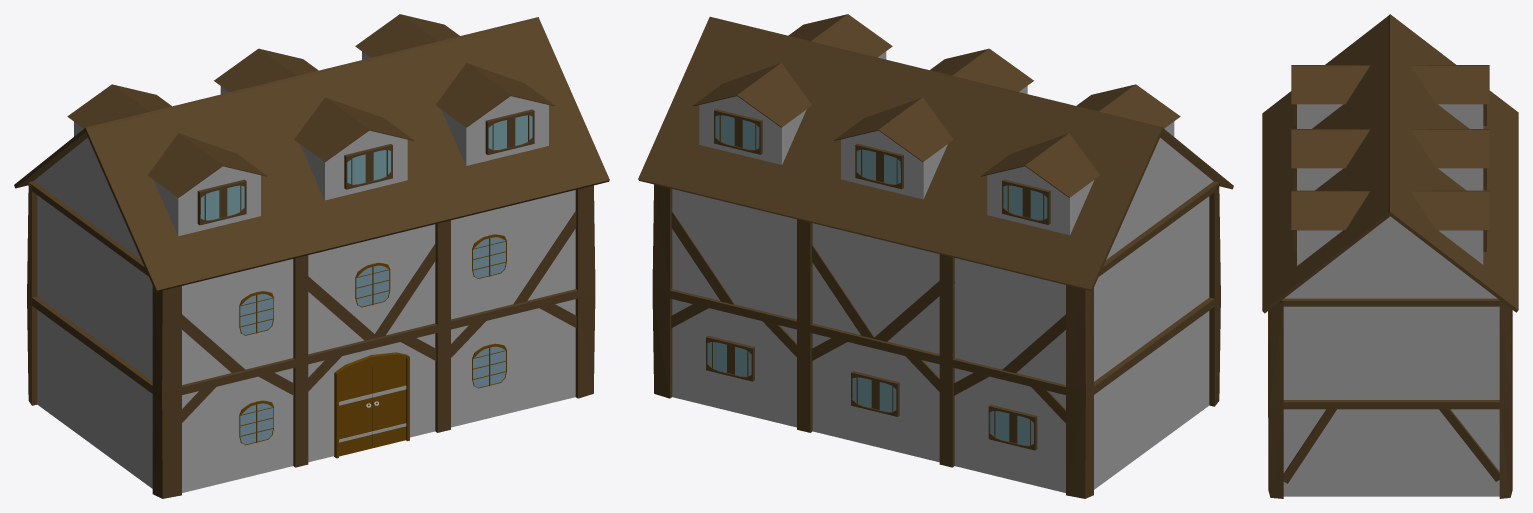
Rendered from House4.fbx.
3 views of the same model, side by side, from view 1: azimuth 30°, elevation 25°; view 2: azimuth 150°, elevation 25°; view 3: azimuth 270°, elevation 25° (orthographic). The views are drawn at different scales.
Visible parts, largest first — view 1: House4; view 2: House4; view 3: House4.
Boxes of the visible parts, left/top/right/bottom form: House4: left=14, top=14, right=609, bottom=498; House4: left=638, top=14, right=1233, bottom=498; House4: left=1262, top=14, right=1518, bottom=498.
Size of the model in its own units: 83.83 by 57.62 by 45.86.
